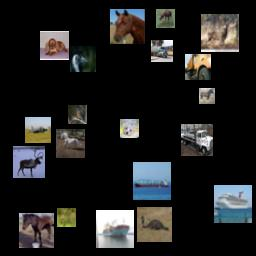airplane: (25, 117, 51, 143)
bird: (137, 207, 172, 242), (70, 46, 96, 72), (68, 105, 87, 124)
deer: (201, 14, 239, 52), (13, 146, 45, 178), (57, 208, 76, 227), (156, 9, 175, 28)
dog: (40, 31, 69, 60), (120, 119, 139, 138)
ship: (214, 185, 252, 223), (133, 162, 171, 200), (96, 210, 134, 248)
truck: (181, 124, 213, 156), (185, 54, 211, 80), (151, 40, 173, 62)
